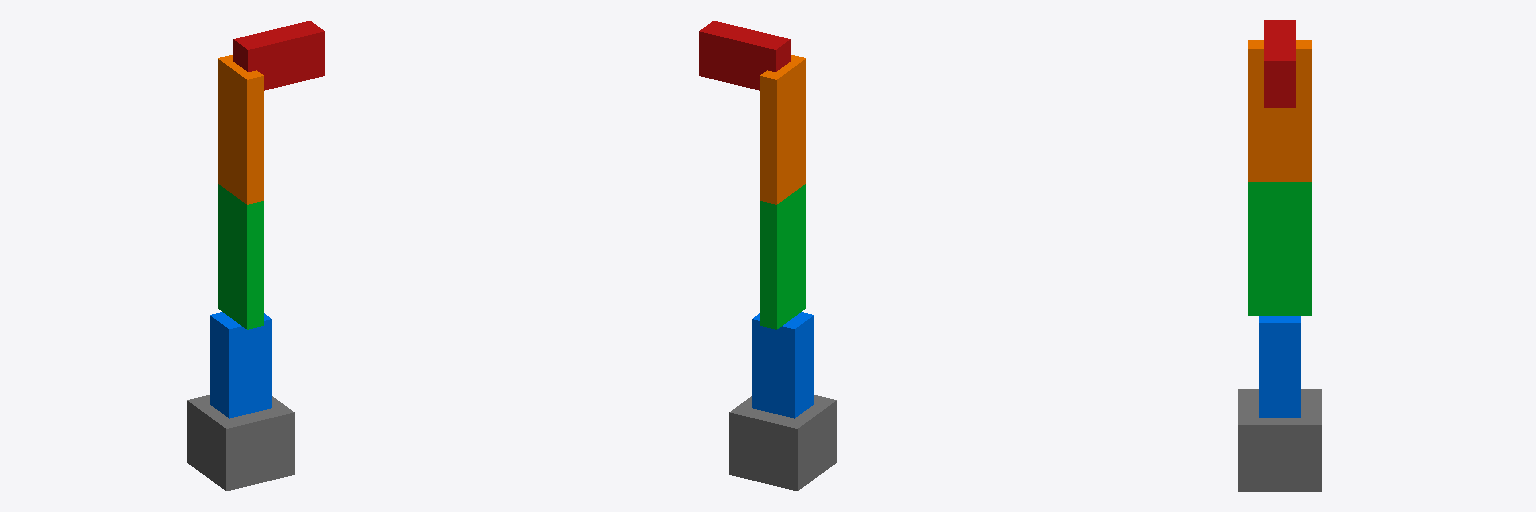
URDF robot description (hand_teleop_arm):
<?xml version="1.0"?>
<robot name="hand_teleop_arm">

  <!-- ═══════════════════════════════════════════════════════
       MATERIALS
  ═══════════════════════════════════════════════════════ -->
  <material name="grey">
    <color rgba="0.5 0.5 0.5 1.0"/>
  </material>
  <material name="blue">
    <color rgba="0.0 0.5 1.0 1.0"/>
  </material>
  <material name="green">
    <color rgba="0.0 0.8 0.2 1.0"/>
  </material>
  <material name="orange">
    <color rgba="1.0 0.5 0.0 1.0"/>
  </material>
  <material name="red">
    <color rgba="0.8 0.1 0.1 1.0"/>
  </material>


  <!-- ═══════════════════════════════════════════════════════
       LINKS
  ═══════════════════════════════════════════════════════ -->

  <!-- base_link: fixed to the ground (grey box) -->
  <link name="base_link">
    <visual>
      <origin xyz="0 0 0.035"/>            <!-- centre of box at half height -->
      <geometry>
        <box size="0.08 0.08 0.07"/>       <!-- 8x8x7 cm -->
      </geometry>
      <material name="grey"/>
    </visual>
  </link>

  <!-- link1: sits on base, rotates around Z (blue box) -->
  <link name="link1">
    <visual>
      <origin xyz="0 0 0.05"/>             <!-- centre at half its height -->
      <geometry>
        <box size="0.05 0.04 0.10"/>       <!-- 5x4x10 cm -->
      </geometry>
      <material name="blue"/>
    </visual>
  </link>

  <!-- link2: upper arm (green box) -->
  <link name="link2">
    <visual>
      <origin xyz="0 0 0.07"/>             <!-- centre at half its height -->
      <geometry>
        <box size="0.02 0.06 0.14"/>       <!-- 2x6x14 cm -->
      </geometry>
      <material name="green"/>
    </visual>
  </link>

  <!-- link3: forearm (orange box) -->
  <link name="link3">
    <visual>
      <origin xyz="0 0 0.07"/>             <!-- centre at half its height -->
      <geometry>
        <box size="0.02 0.06 0.14"/>       <!-- 2x6x14 cm -->
      </geometry>
      <material name="orange"/>
    </visual>
  </link>

  <!-- gripper_link: end effector (red box) -->
  <link name="gripper_link">
    <visual>
      <origin xyz="0.045 0 0"/>            <!-- extend along X axis -->
      <geometry>
        <box size="0.09 0.03 0.05"/>       <!-- 9x3x5 cm -->
      </geometry>
      <material name="red"/>
    </visual>
  </link>


  <!-- ═══════════════════════════════════════════════════════
       JOINTS
  ═══════════════════════════════════════════════════════ -->

  <!-- Joint 1: base_link → link1
       Rotates around Z axis (turntable style)
       Positioned on top of base_link (height = 0.07m) -->
  <joint name="joint1" type="revolute">
    <parent link="base_link"/>
    <child link="link1"/>
    <origin xyz="0 0 0.07"/>              <!-- top of base -->
    <axis xyz="0 0 1"/>                   <!-- Z axis rotation -->
    <limit lower="-1.5708" upper="1.5708" effort="10.0" velocity="1.0"/>
  </joint>

  <!-- Joint 2: link1 → link2
       Rotates around Y axis (shoulder forward/back)
       Positioned on top of link1 (height = 0.10m) -->
  <joint name="joint2" type="revolute">
    <parent link="link1"/>
    <child link="link2"/>
    <origin xyz="0 0 0.10"/>              <!-- top of link1 -->
    <axis xyz="0 1 0"/>                   <!-- Y axis rotation -->
    <limit lower="-1.5708" upper="1.5708" effort="10.0" velocity="1.0"/>
  </joint>

  <!-- Joint 3: link2 → link3
       Rotates around Y axis (elbow)
       Positioned on top of link2 (height = 0.14m) -->
  <joint name="joint3" type="revolute">
    <parent link="link2"/>
    <child link="link3"/>
    <origin xyz="0 0 0.14"/>              <!-- top of link2 -->
    <axis xyz="0 1 0"/>                   <!-- Y axis rotation -->
    <limit lower="-1.5708" upper="1.5708" effort="10.0" velocity="1.0"/>
  </joint>

  <!-- Joint 4: link3 → gripper_link
       Rotates around X axis (gripper open/close)
       Positioned on top of link3 (height = 0.14m) -->
  <joint name="joint4" type="revolute">
    <parent link="link3"/>
    <child link="gripper_link"/>
    <origin xyz="0 0 0.14"/>              <!-- top of link3 -->
    <axis xyz="1 0 0"/>                   <!-- X axis rotation -->
    <limit lower="-1.5708" upper="1.5708" effort="5.0" velocity="1.0"/>
  </joint>

</robot>

--- Facts derived from the render (not from the file) ---
Views: 3 orthographic renders of the robot side by side, from view 1: azimuth 30°, elevation 25°; view 2: azimuth 150°, elevation 25°; view 3: azimuth 270°, elevation 25°.
Model hand_teleop_arm with 5 links and 4 joints (4 revolute), rooted at base_link, posed every joint at zero.
Links seen in each view (by area): view 1: base_link, link3, link2, link1, gripper_link; view 2: base_link, link3, link2, link1, gripper_link; view 3: link2, base_link, link3, link1, gripper_link.
Boxes of the visible links, left/top/right/bottom form: base_link: left=187, top=395, right=294, bottom=490; link3: left=218, top=55, right=263, bottom=204; link2: left=218, top=184, right=263, bottom=329; link1: left=210, top=312, right=271, bottom=418; gripper_link: left=233, top=21, right=324, bottom=90; base_link: left=729, top=395, right=836, bottom=490; link3: left=760, top=55, right=805, bottom=204; link2: left=760, top=184, right=805, bottom=329; link1: left=752, top=312, right=813, bottom=418; gripper_link: left=699, top=21, right=790, bottom=90; link2: left=1248, top=182, right=1311, bottom=315; base_link: left=1238, top=389, right=1321, bottom=491; link3: left=1248, top=40, right=1311, bottom=181; link1: left=1259, top=316, right=1300, bottom=417; gripper_link: left=1264, top=20, right=1295, bottom=107.
Size in the robot's own frame: 0.13 by 0.08 by 0.475 metres.
Geometry: primitives only (box / cylinder / sphere), no mesh files.
